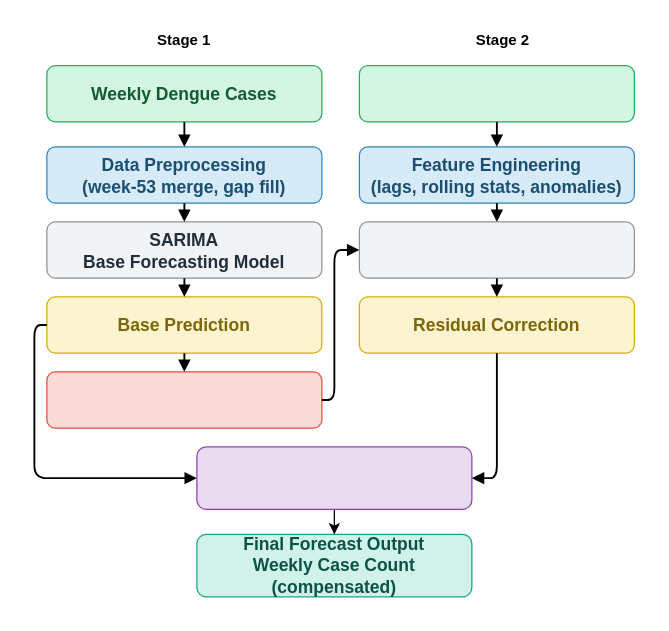
Some shapes in this 669 by 631 pixel diagram are drawn without their labels. The box of each missing label's shape, as (x1, y1, x2, y2) in pixels:
Climate Data: (358, 64, 634, 122)
Combine Outputs: (196, 446, 472, 509)
Residuals: (46, 371, 322, 428)
XGBoost Pooled Residual Learner: (358, 221, 634, 278)
